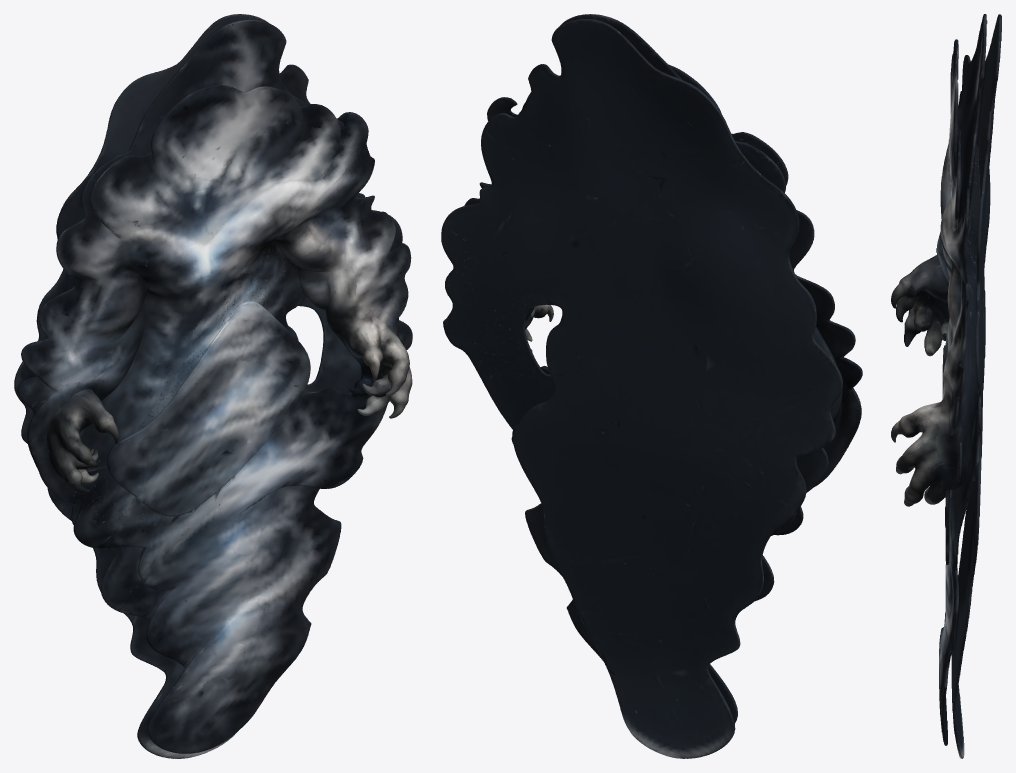
The model's file is air_elemental.glb.
3 views of the same model, side by side, from view 1: azimuth 30°, elevation 25°; view 2: azimuth 150°, elevation 25°; view 3: azimuth 270°, elevation 25° (orthographic). The views are drawn at different scales.
Visible parts, largest first — view 1: material; view 2: material; view 3: material.
Part boxes in pixels (bbox=[...]): material: bbox=[14, 14, 412, 758]; material: bbox=[441, 14, 862, 758]; material: bbox=[891, 14, 1001, 758].
Size of the model in its own units: 0.6871 by 1.18 by 0.1561.
Materials: 1 (1 with a texture image).
